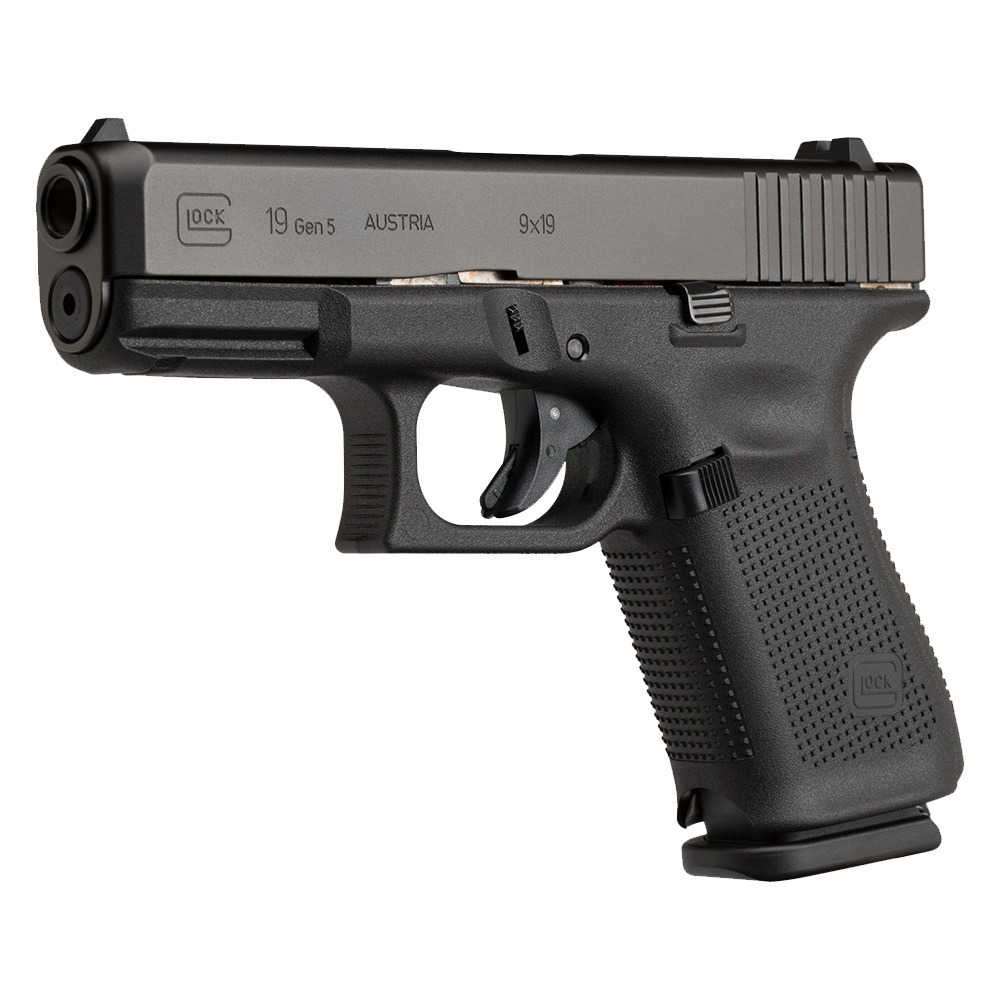gun: (25, 99, 963, 887)
